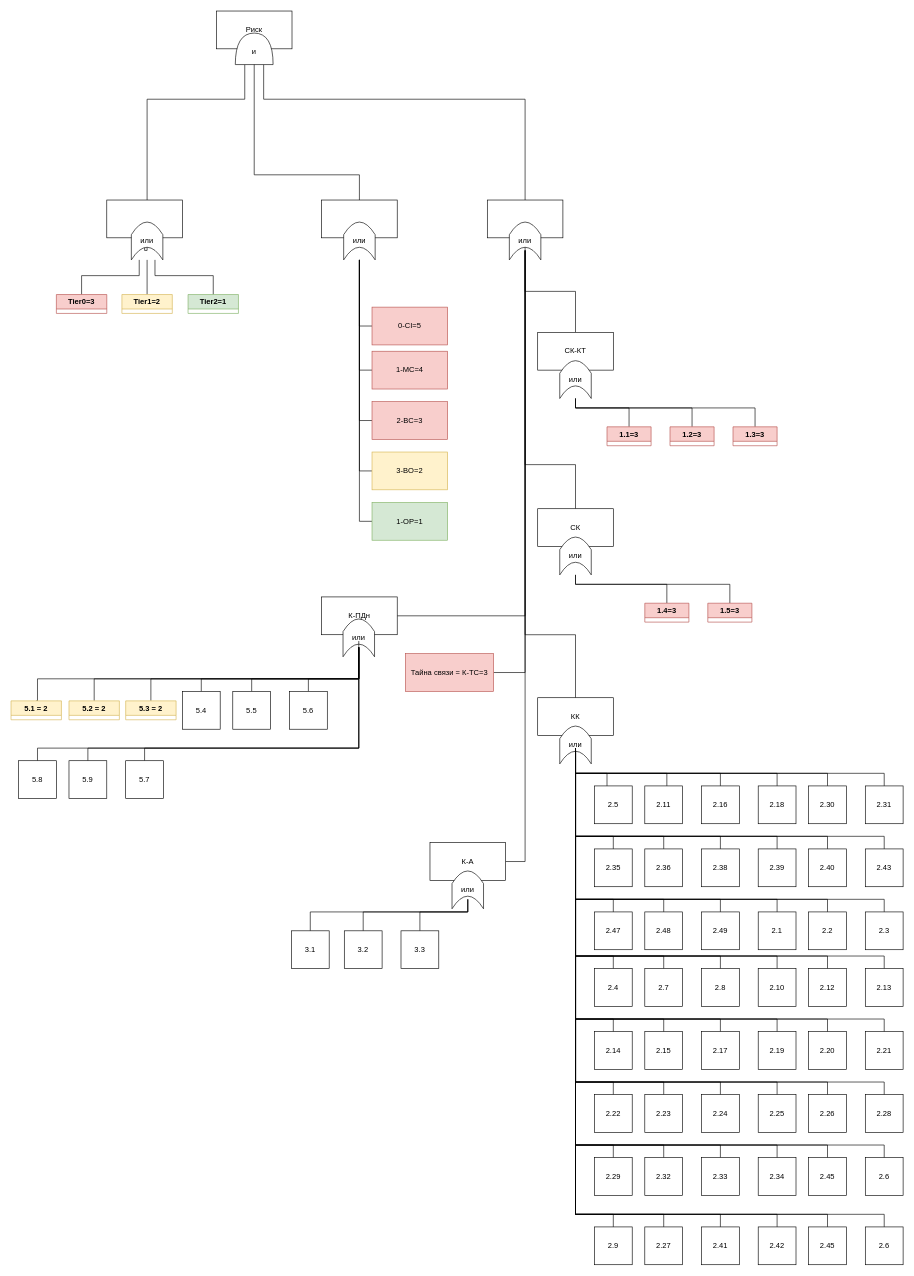
Some shapes in this 914 by 1276 pixel diagram are drawn without their labels. The shapes that lost their labels are listed below. From the top down, each one's centre as x and y in pixels, then its label:
At [144,218]: "Tier".
At [359,218]: "Критичность".
At [525,218]: "Категория ИОД".
